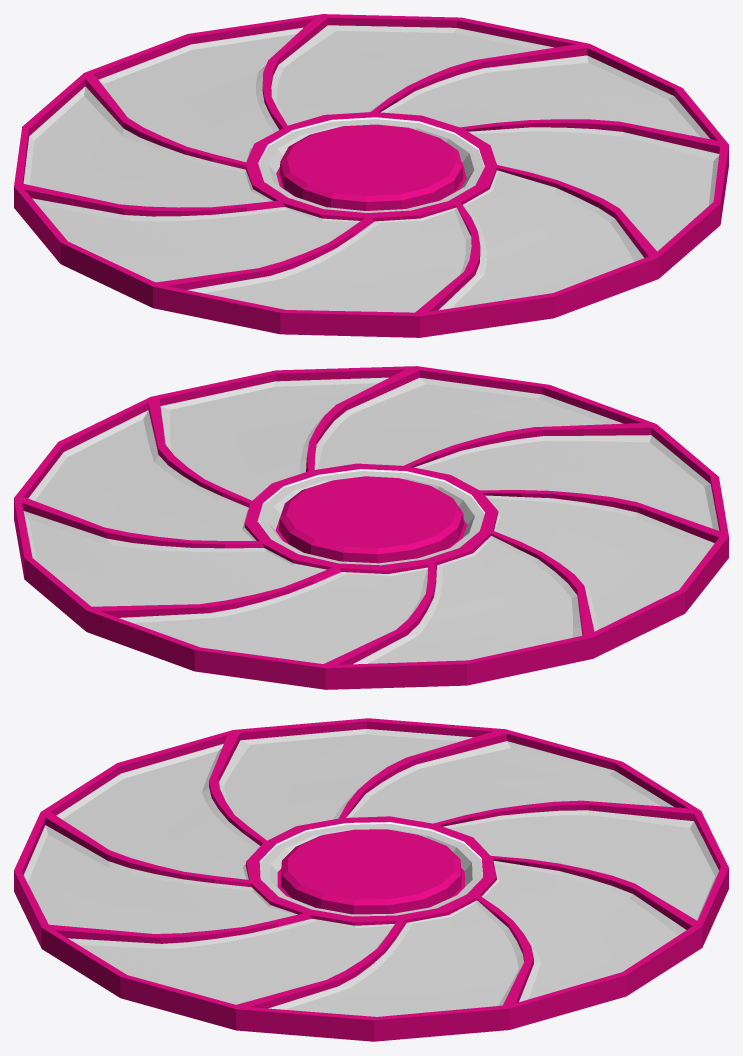
The model's file is new center.fbx.
The picture shows the model from 3 angles, top to bottom: view 1: azimuth 30°, elevation 25°; view 2: azimuth 150°, elevation 25°; view 3: azimuth 270°, elevation 25°; orthographic projection.
Visible parts, largest first — view 1: Ring_0.001, Ring_0.002; view 2: Ring_0.001, Ring_0.002; view 3: Ring_0.001, Ring_0.002.
Part boxes in pixels (<box>): Ring_0.001: <box>14,14,728,337</box>; Ring_0.002: <box>258,119,484,212</box>; Ring_0.001: <box>14,366,728,689</box>; Ring_0.002: <box>258,471,484,565</box>; Ring_0.001: <box>14,718,728,1041</box>; Ring_0.002: <box>260,824,482,916</box>.
Size of the model in its own units: 423 by 66.94 by 423.
